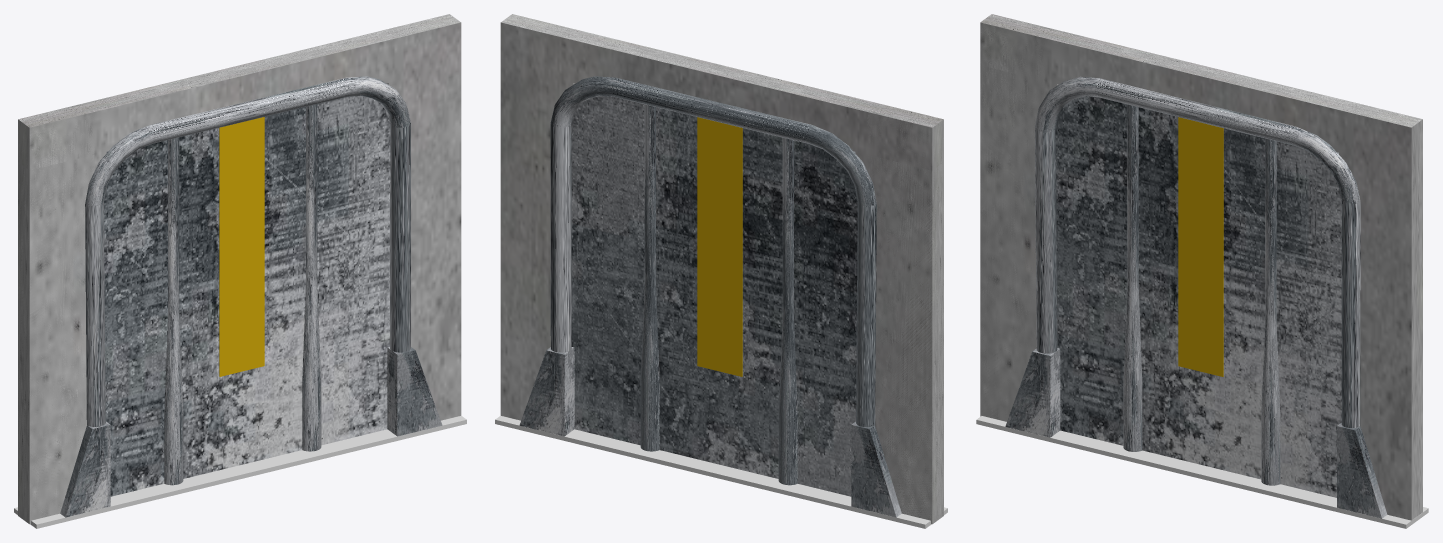
Rendered from indoor.fbx.
3 views of the same model, side by side, from view 1: azimuth 30°, elevation 25°; view 2: azimuth 150°, elevation 25°; view 3: azimuth 330°, elevation 25° (orthographic).
Parts seen in each view (by area): view 1: Cube, Cubo, Cilindro, Cubo.004, Cubo.003, Cilindro.003, Cilindro.002, Cubo.002, Cubo.001; view 2: Cube, Cubo, Cilindro.001, Cubo.004, Cubo.003, Cilindro.003, Cilindro.002, Cubo.002, Cubo.001; view 3: Cube, Cubo, Cilindro, Cubo.004, Cubo.003, Cilindro.002, Cilindro.003, Cubo.001, Cubo.002.
Part boxes in pixels (left/top/right/bottom): Cube: left=104, top=95, right=390, bottom=496; Cubo: left=18, top=14, right=461, bottom=524; Cilindro: left=85, top=76, right=411, bottom=426; Cubo.004: left=219, top=117, right=264, bottom=376; Cubo.003: left=14, top=415, right=466, bottom=528; Cilindro.003: left=302, top=104, right=321, bottom=451; Cilindro.002: left=164, top=137, right=183, bottom=485; Cubo.002: left=387, top=347, right=442, bottom=436; Cubo.001: left=60, top=421, right=110, bottom=517; Cube: left=571, top=96, right=857, bottom=496; Cubo: left=500, top=14, right=943, bottom=524; Cilindro.001: left=550, top=76, right=876, bottom=427; Cubo.004: left=697, top=117, right=742, bottom=376; Cubo.003: left=495, top=415, right=947, bottom=528; Cilindro.003: left=640, top=104, right=659, bottom=451; Cilindro.002: left=778, top=138, right=797, bottom=485; Cubo.002: left=519, top=347, right=574, bottom=436; Cubo.001: left=851, top=421, right=901, bottom=517; Cube: left=1055, top=96, right=1341, bottom=497; Cubo: left=980, top=14, right=1422, bottom=520; Cilindro: left=1035, top=76, right=1360, bottom=428; Cubo.004: left=1178, top=117, right=1223, bottom=376; Cubo.003: left=976, top=416, right=1428, bottom=528; Cilindro.002: left=1123, top=104, right=1142, bottom=451; Cilindro.003: left=1261, top=138, right=1280, bottom=485; Cubo.001: left=1005, top=348, right=1060, bottom=437; Cubo.002: left=1337, top=423, right=1387, bottom=518.
Bounding box in the file's own units: 503 × 444 × 45.39.
4 materials, 3 textured.
